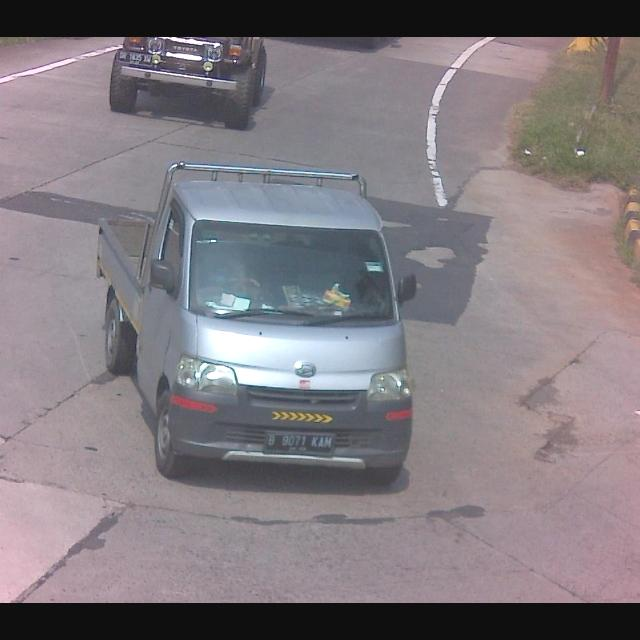plate: (267, 430, 335, 460)
